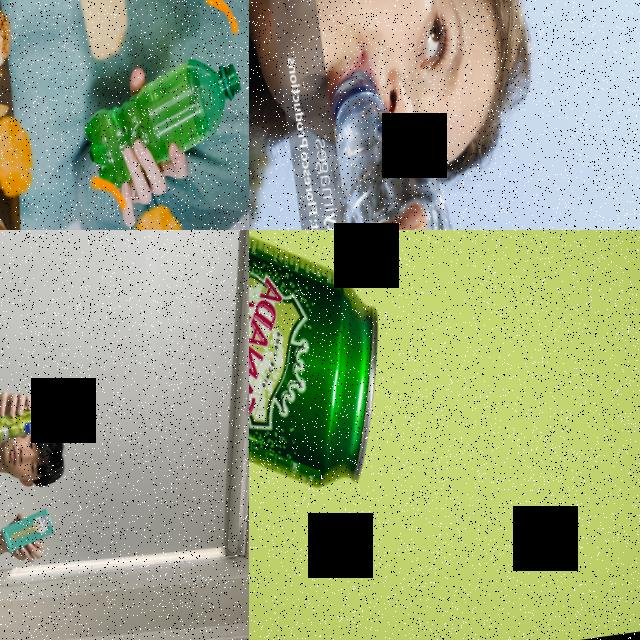bottle: (317, 49, 550, 230), (76, 48, 249, 182)
can: (249, 230, 405, 525), (0, 406, 45, 446)
